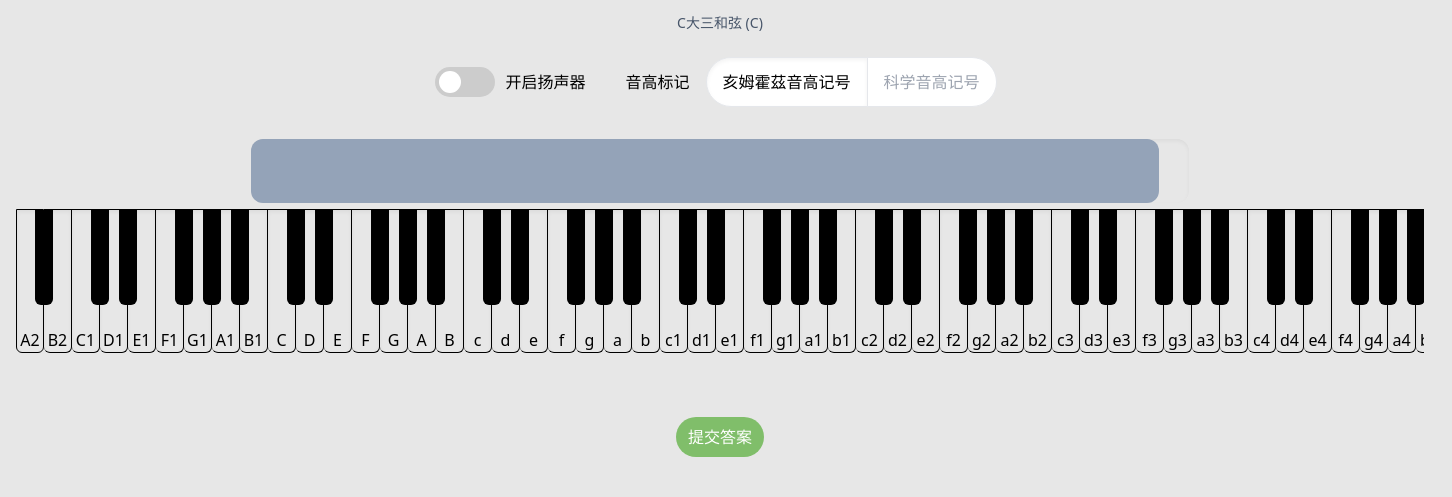
Scenario: ChordVirtualPiano › submitting all correct keys shows 正确✅ and green keys (C major triad)
Click the element with test id "piano-key-60": coordinates (674, 281) [660,209,688,353]
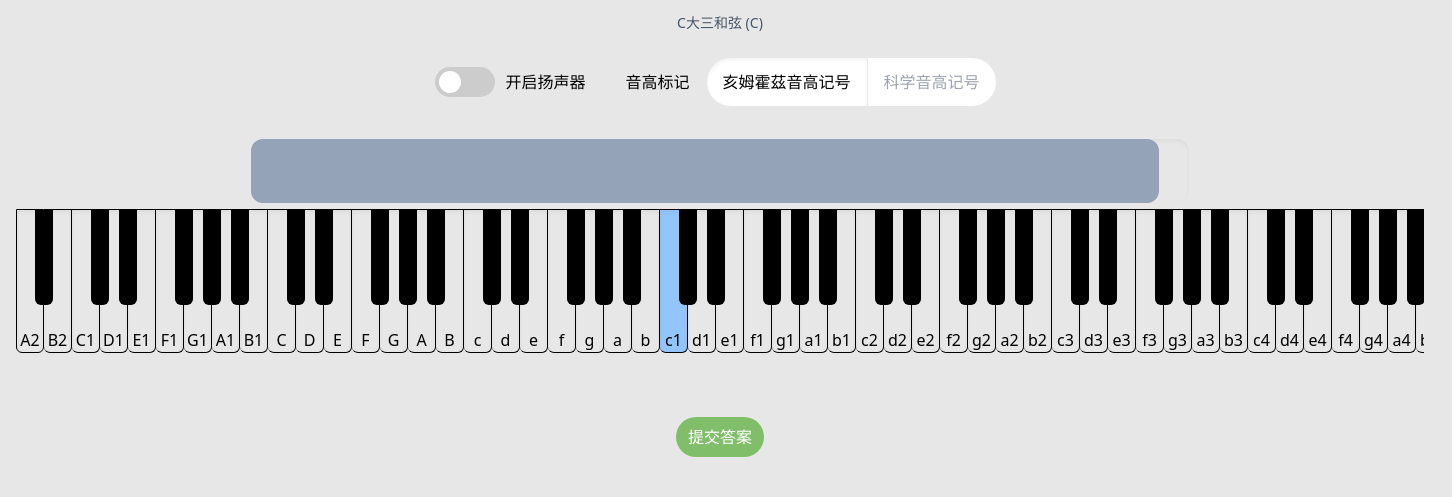
Click the element with test id "piano-key-64": coordinates (730, 281) [716,209,744,353]
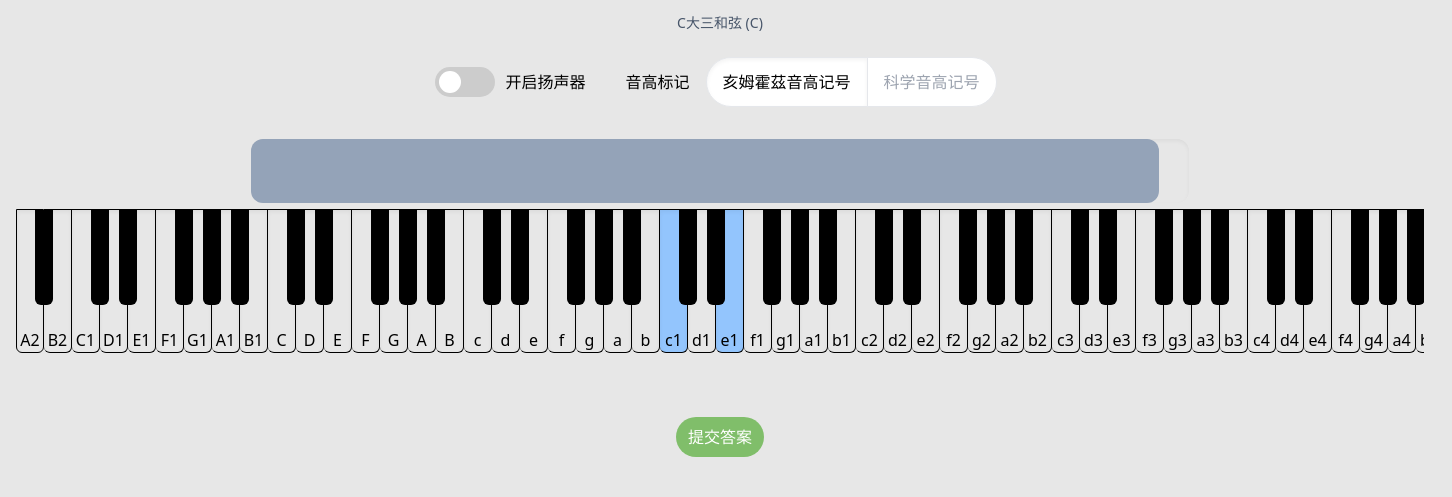
Click the element with test id "piano-key-67": coordinates (786, 281) [772,209,800,353]
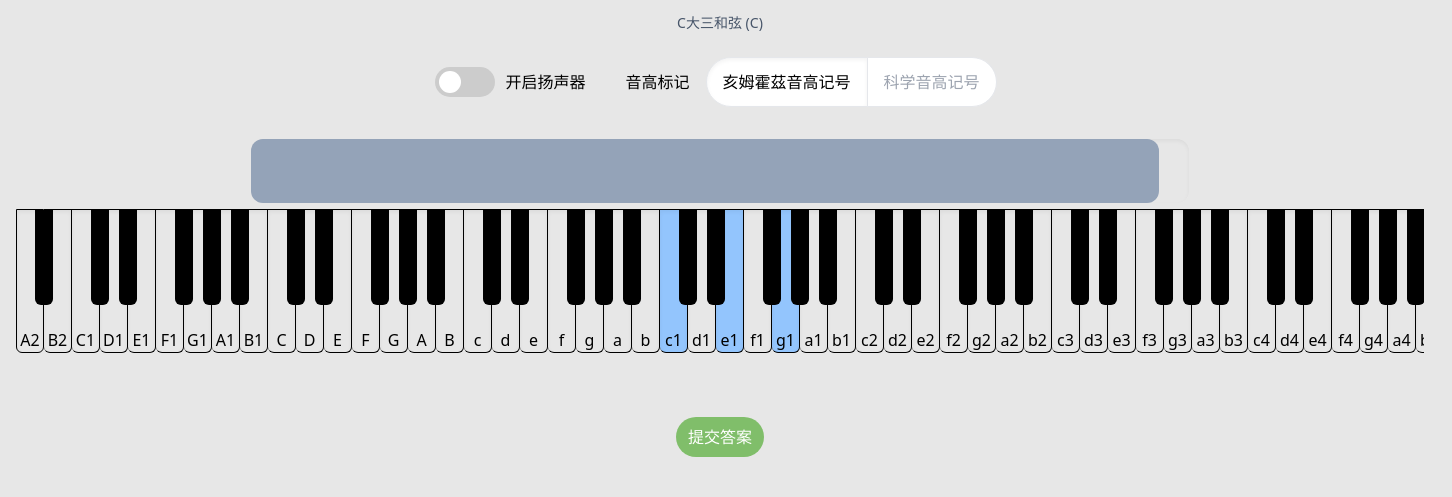
Click the button "提交答案": coordinates (720, 437) [676,417,764,457]
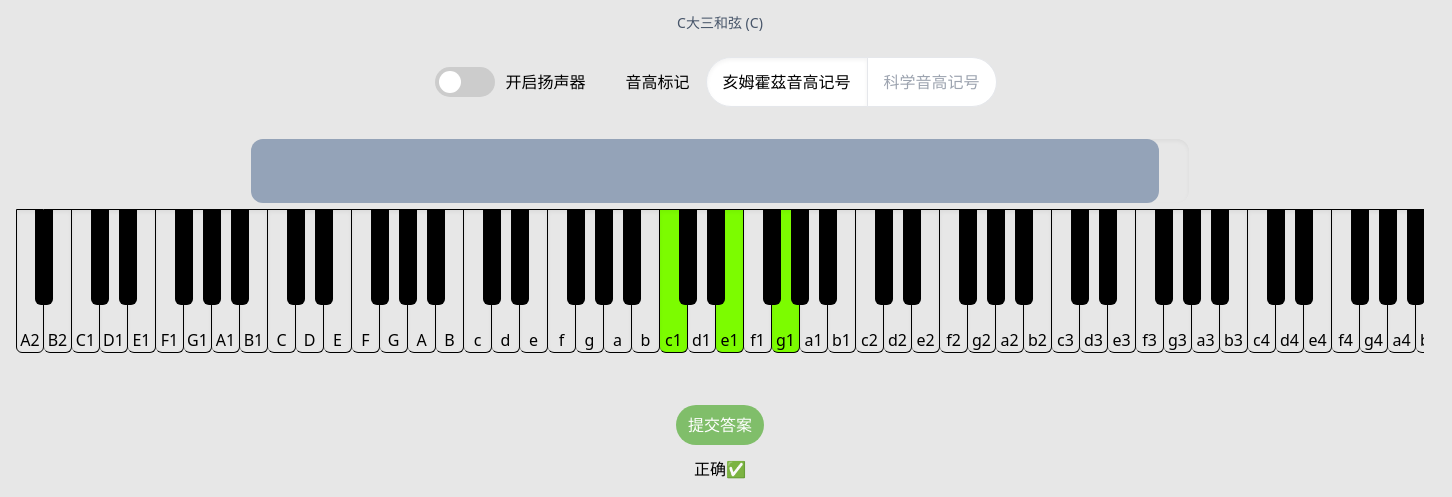
Now the text with test id "virtual-piano-message" reads "正确✅", box [694,458,746,480]
